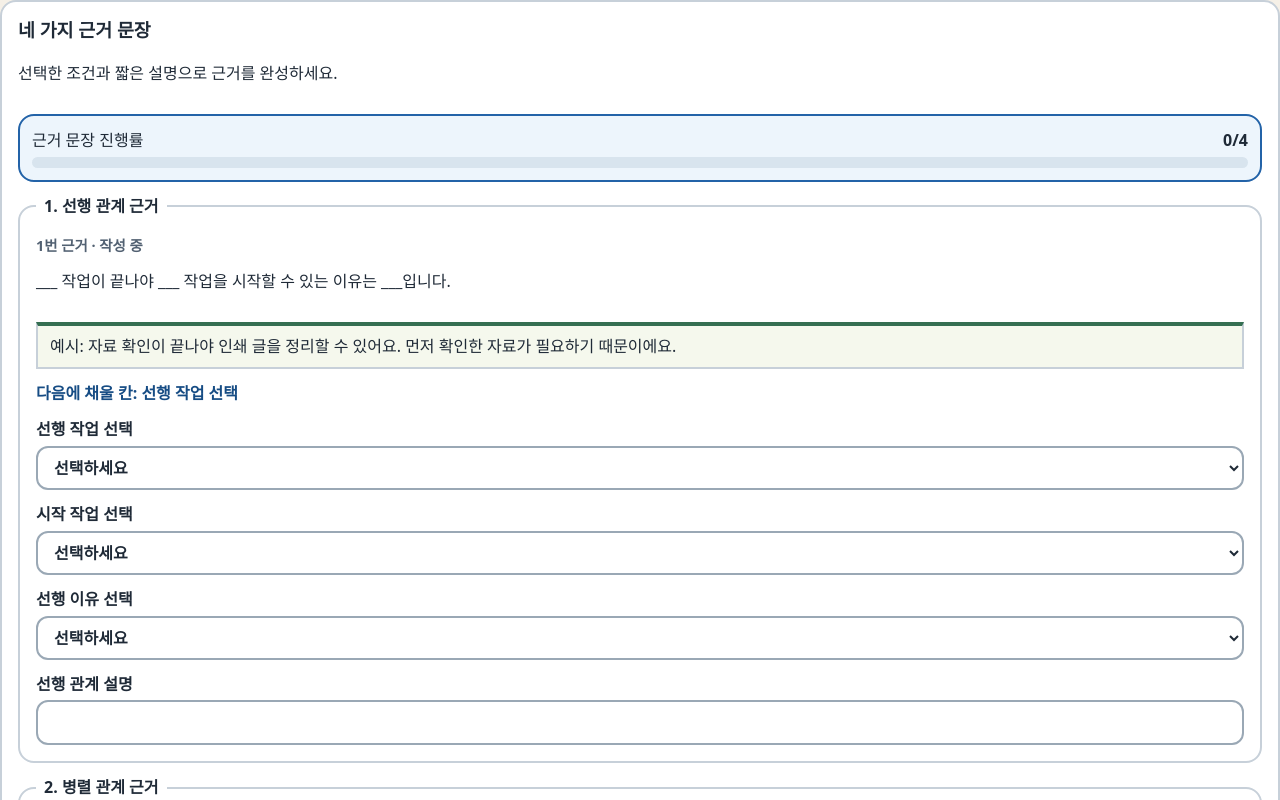
Scenario: analysis and revision learning flow › moves each evidence hint to the first empty input
Expected: the text "다음에 채울 칸: 선행 작업 선택" is shown, x1=36 y1=382 x2=238 y2=404
Select "자료 확인" in the dropdown labelled "선행 작업 선택" at (640, 468), box x1=36 y1=446 x2=1244 y2=490
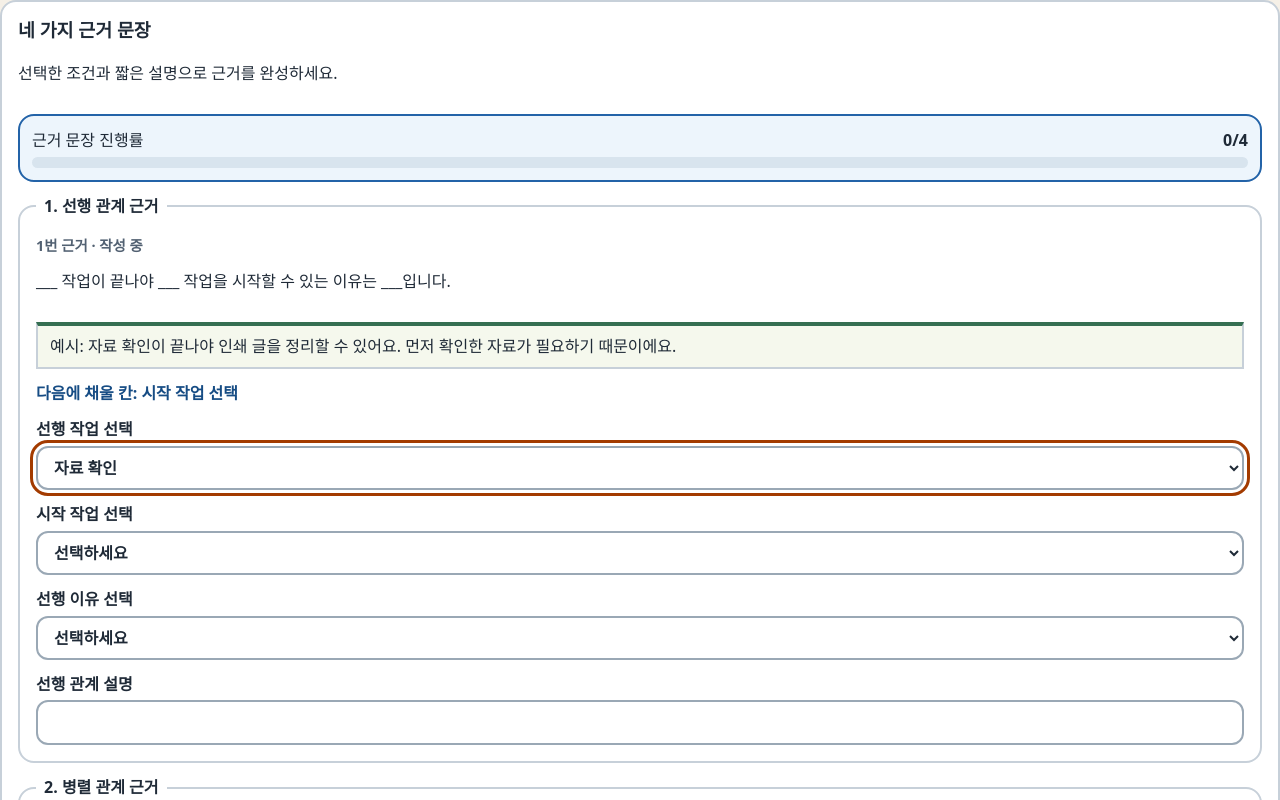
Now the text "다음에 채울 칸: 시작 작업 선택" is shown, box x1=36 y1=382 x2=238 y2=404
Select "인쇄 글 정리" in the dropdown labelled "시작 작업 선택" at (640, 553), box x1=36 y1=531 x2=1244 y2=575
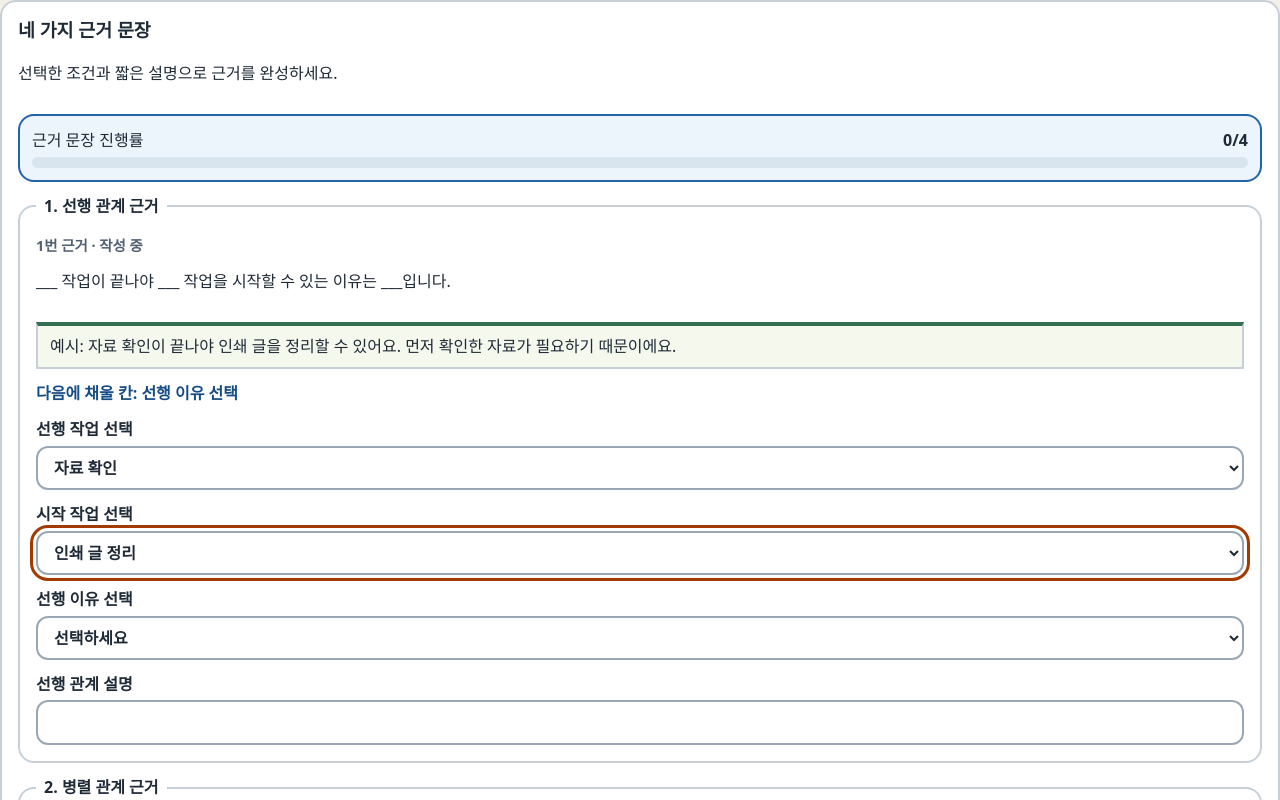
Now the text "다음에 채울 칸: 선행 이유 선택" is shown, box x1=36 y1=382 x2=238 y2=404
